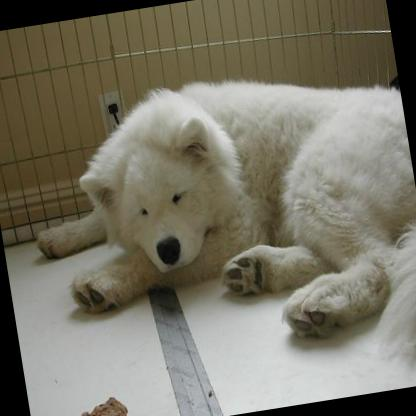Samoyed: (11, 47, 416, 416)
